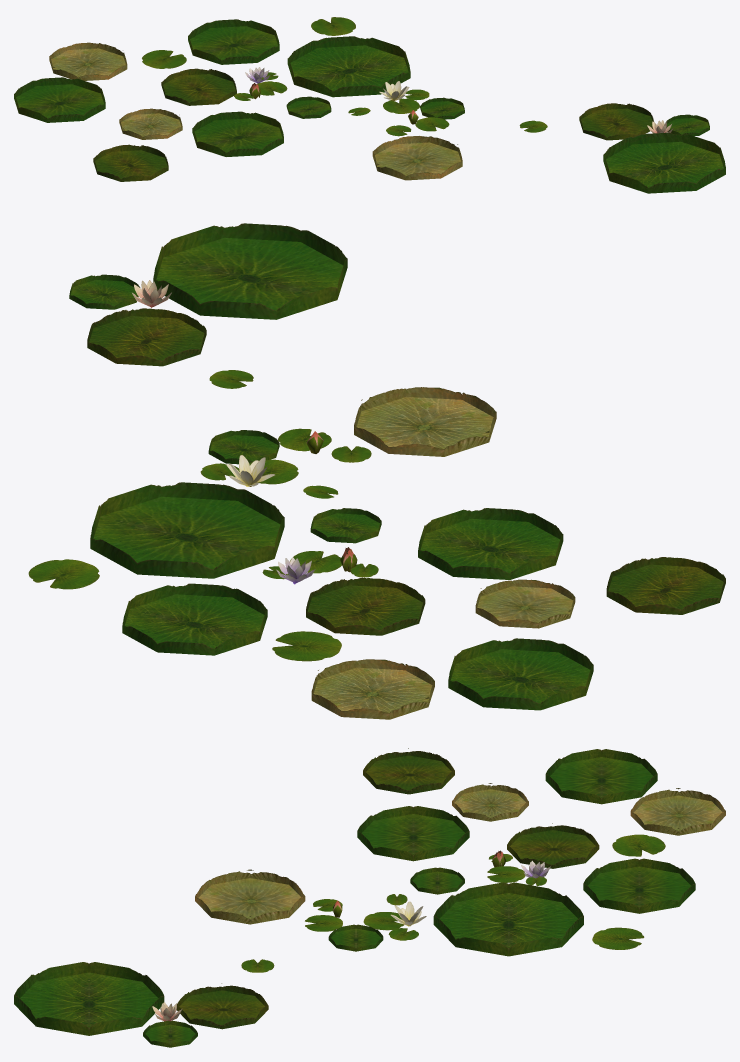
The model's file is shuilian_xn_40.FBX.
3 renders of one model, top to bottom at view 1: azimuth 30°, elevation 25°; view 2: azimuth 150°, elevation 25°; view 3: azimuth 270°, elevation 25°, orthographic. The views are drawn at different scales.
Visible parts, largest first — view 1: xinanshuilian_40; view 2: xinanshuilian_40; view 3: xinanshuilian_40.
Boxes of the visible parts, x1=… form: xinanshuilian_40: x1=14, y1=17, x2=725, y2=193; xinanshuilian_40: x1=28, y1=223, x2=725, y2=719; xinanshuilian_40: x1=14, y1=748, x2=725, y2=1047.
Size of the model in its own units: 902 by 33.63 by 923.
